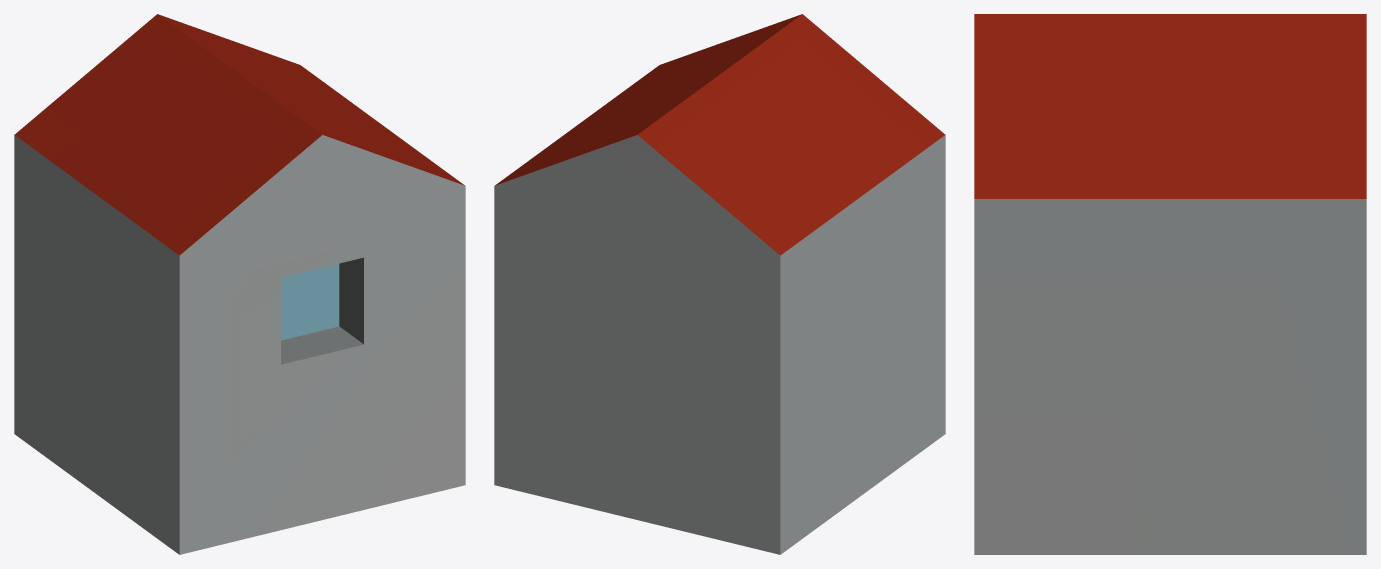
The model's file is maison_test.gltf.
3 views of the same model, side by side, from view 1: azimuth 30°, elevation 25°; view 2: azimuth 150°, elevation 25°; view 3: azimuth 270°, elevation 25° (orthographic). The views are drawn at different scales.
Visible parts, largest first — view 1: maison; view 2: maison; view 3: maison.
Boxes of the visible parts, x1,y1,x2,y2 form: maison: [14, 14, 465, 554]; maison: [494, 14, 945, 554]; maison: [974, 14, 1366, 554].
Bounding box in the file's own units: 2 × 2.57 × 2.
